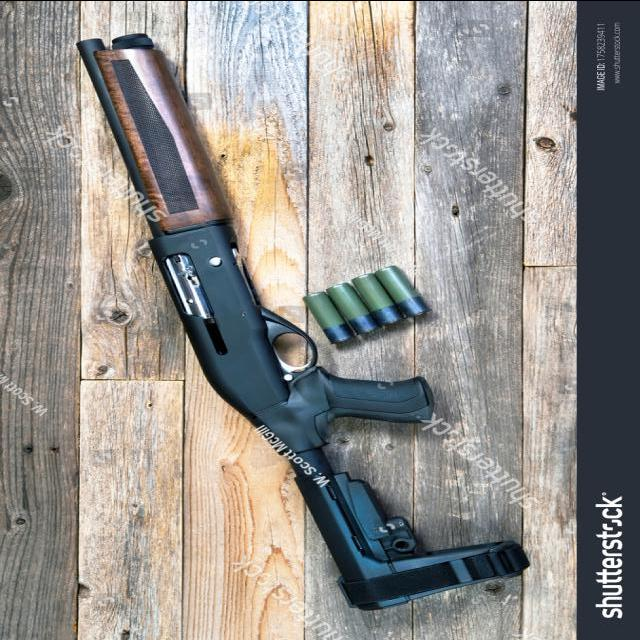shotgun: (71, 1, 555, 626)
